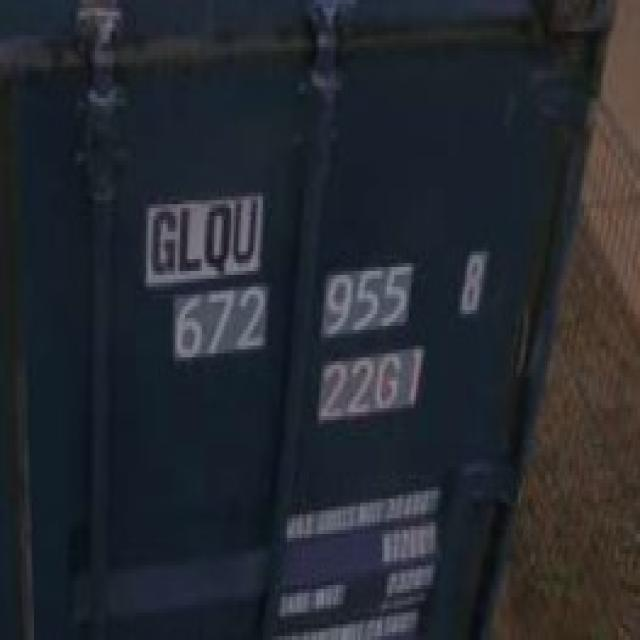dv: (456, 239, 487, 322)
owner: (146, 194, 260, 275)
serial: (171, 268, 412, 360)
size: (314, 348, 431, 422)
